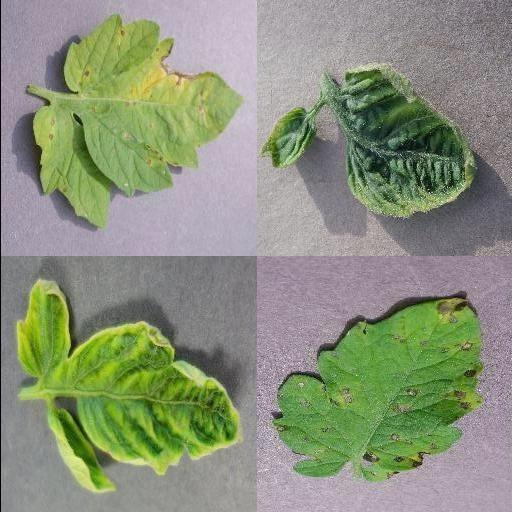Septoria: (31, 16, 243, 228), (275, 292, 486, 482)
Yellow Leaf Curl Virus: (15, 276, 245, 492), (342, 64, 476, 220), (261, 106, 315, 170)
